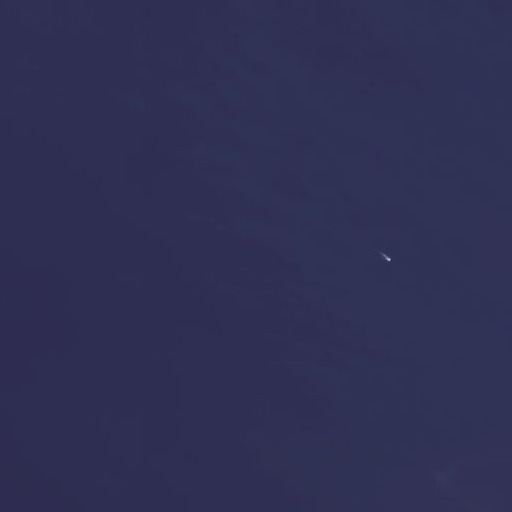ship: (381, 251, 393, 265)
